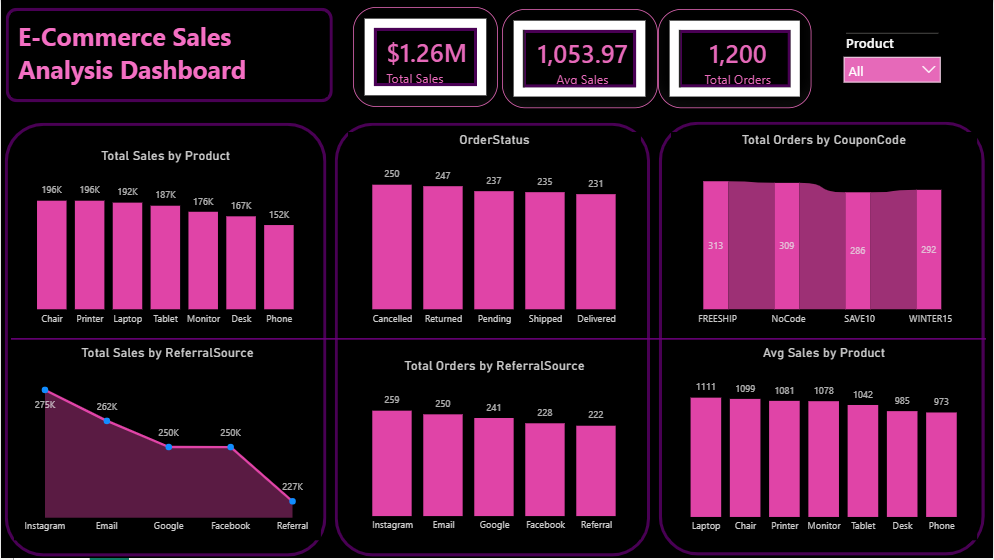

The page's visual inventory and layout, read from the dashboard file:
{"tool":"powerbi","page":{"name":"Page 1","canvas":[1280,720],"ordinal":0},"visuals":[{"type":"shape","box":[4.1,156.9,417,561.5],"z":1000},{"type":"shape","box":[429.4,156.9,408.8,561.5],"z":1001},{"type":"shape","box":[847.8,155.5,422.5,561.5],"z":1002},{"type":"shape","box":[12.4,429.4,1258,15.1],"z":1003},{"type":"shape","box":[5.5,9.6,423.9,123.9],"z":1004},{"type":"textbox","box":[16.5,19.3,404.6,104.6],"z":1005},{"type":"clusteredColumnChart","fields":{"Y":["Cleaned.Total Sales"],"Category":["Cleaned.Product"]},"box":[22,191.3,381.2,238.1],"z":1007},{"type":"areaChart","fields":{"Category":["Cleaned.ReferralSource"],"Y":["Cleaned.Total Sales"]},"box":[16.5,444.6,396.4,251.9],"z":1008},{"type":"clusteredColumnChart","fields":{"Y":["Cleaned.Total Orders"],"Category":["Cleaned.ReferralSource"]},"box":[447.3,462.5,378.5,234],"z":1009},{"type":"columnChart","title":" OrderStatus","fields":{"Category":["Cleaned.OrderStatus"],"Y":["Cleaned.Total Orders"]},"box":[447.3,170.7,378.5,258.8],"z":1010},{"type":"columnChart","fields":{"Category":["Cleaned.Product"],"Y":["Cleaned.Avg Sal"]},"box":[864.3,444.6,395,251.9],"z":1011},{"type":"ribbonChart","fields":{"Category":["Cleaned.CouponCode"],"Y":["Cleaned.Total Orders"]},"box":[864.3,170.7,395,258.8],"z":1012},{"type":"cardVisual","fields":{"Data":["Cleaned.Total Sales"]},"box":[454.2,9.6,187.2,129.4],"z":1013},{"type":"cardVisual","fields":{"Data":["Cleaned.Avg Sal"]},"box":[646.9,11,200.9,128],"z":1014},{"type":"slicer","fields":{"Values":["Cleaned.Product"]},"box":[1077.7,37.2,144.5,75.7],"z":1015},{"type":"cardVisual","fields":{"Data":["Cleaned.Total Orders"]},"box":[847.8,11,198.2,128],"z":1016}]}

Visuals, with their boxes in screenshot pixels (x1, y1, x2, y2), scaled from the page's 1280x720 canvas onto the 994x560 screenshot:
shape: (3,122,327,559)
shape: (333,122,651,559)
shape: (658,121,986,558)
shape: (10,334,987,346)
shape: (4,7,333,104)
textbox: (13,15,327,96)
clusteredColumnChart - Cleaned.Total Sales x Cleaned.Product: (17,149,313,334)
areaChart - Cleaned.ReferralSource x Cleaned.Total Sales: (13,346,321,542)
clusteredColumnChart - Cleaned.Total Orders x Cleaned.ReferralSource: (347,360,641,542)
" OrderStatus" columnChart: (347,133,641,334)
columnChart - Cleaned.Product x Cleaned.Avg Sal: (671,346,978,542)
ribbonChart - Cleaned.CouponCode x Cleaned.Total Orders: (671,133,978,334)
cardVisual - Cleaned.Total Sales: (353,7,498,108)
cardVisual - Cleaned.Avg Sal: (502,9,658,108)
slicer - Cleaned.Product: (837,29,949,88)
cardVisual - Cleaned.Total Orders: (658,9,812,108)
